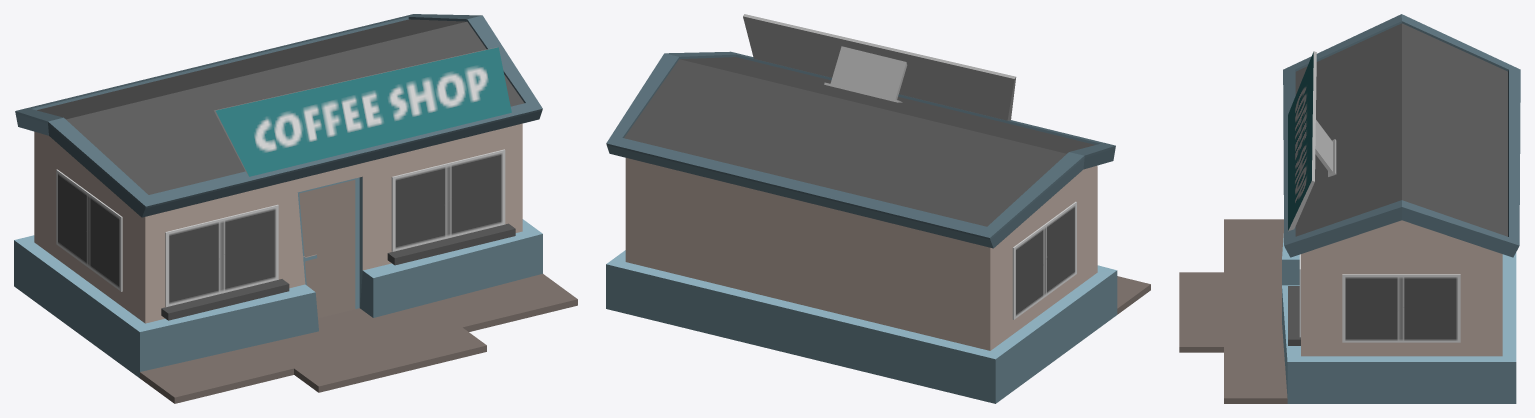
Rendered from coffeeShop02_color03.fbx.
3 renders of one model, left to right at view 1: azimuth 30°, elevation 25°; view 2: azimuth 150°, elevation 25°; view 3: azimuth 270°, elevation 25°, orthographic. The views are drawn at different scales.
Parts seen in each view (by area): view 1: coffeeShop02_color03; view 2: coffeeShop02_color03; view 3: coffeeShop02_color03.
Part boxes in pixels (left/top/right/bottom): coffeeShop02_color03: left=14, top=14, right=577, bottom=403; coffeeShop02_color03: left=606, top=14, right=1150, bottom=403; coffeeShop02_color03: left=1179, top=14, right=1520, bottom=403.
Size of the model in its own units: 1294 by 669 by 968.
